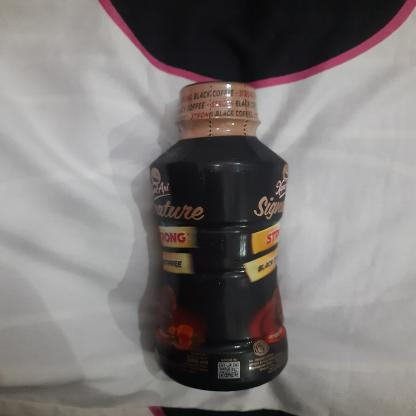bottle: (140, 78, 294, 391)
